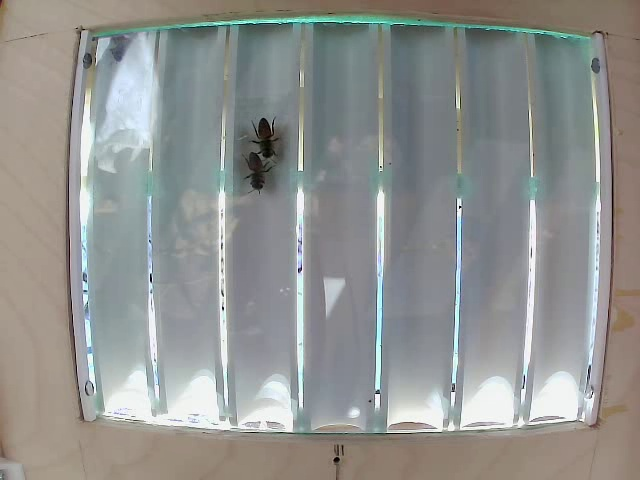bee: (233, 143, 276, 205), (253, 110, 277, 160)
